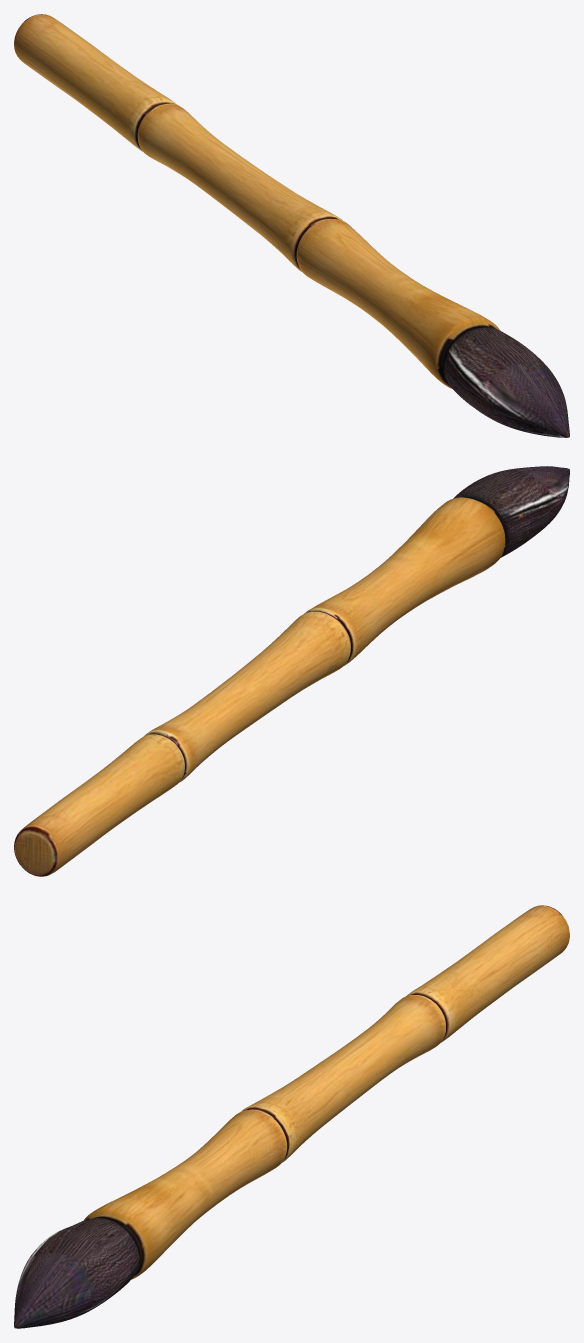
Rendered from brush.glb.
The picture shows the model from 3 angles, top to bottom: view 1: azimuth 30°, elevation 25°; view 2: azimuth 150°, elevation 25°; view 3: azimuth 330°, elevation 25°; orthographic projection.
Visible parts, largest first — view 1: tg_brush; view 2: tg_brush; view 3: tg_brush.
Boxes of the visible parts, x1,y1,x2,y2 form: tg_brush: (14, 14, 569, 437); tg_brush: (14, 466, 569, 876); tg_brush: (14, 905, 569, 1328).
Bounding box in the file's own units: 0.0885 × 0.0722 × 1.
Materials: 1 (1 with a texture image).
